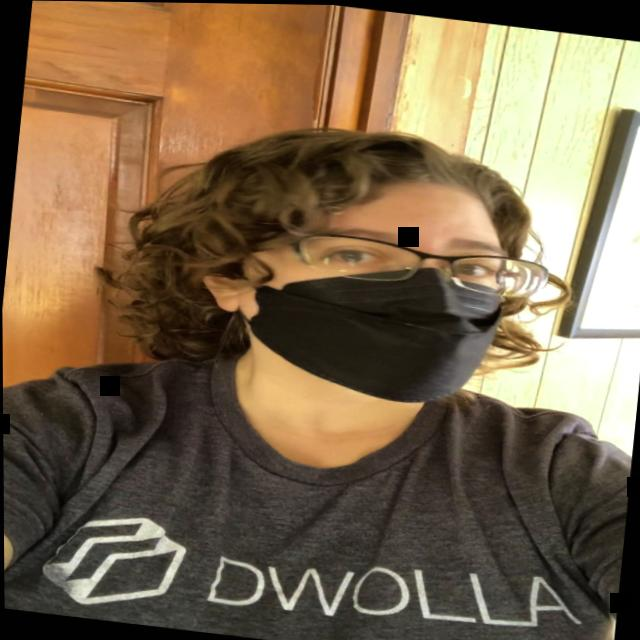Mask: (226, 159, 535, 413)
